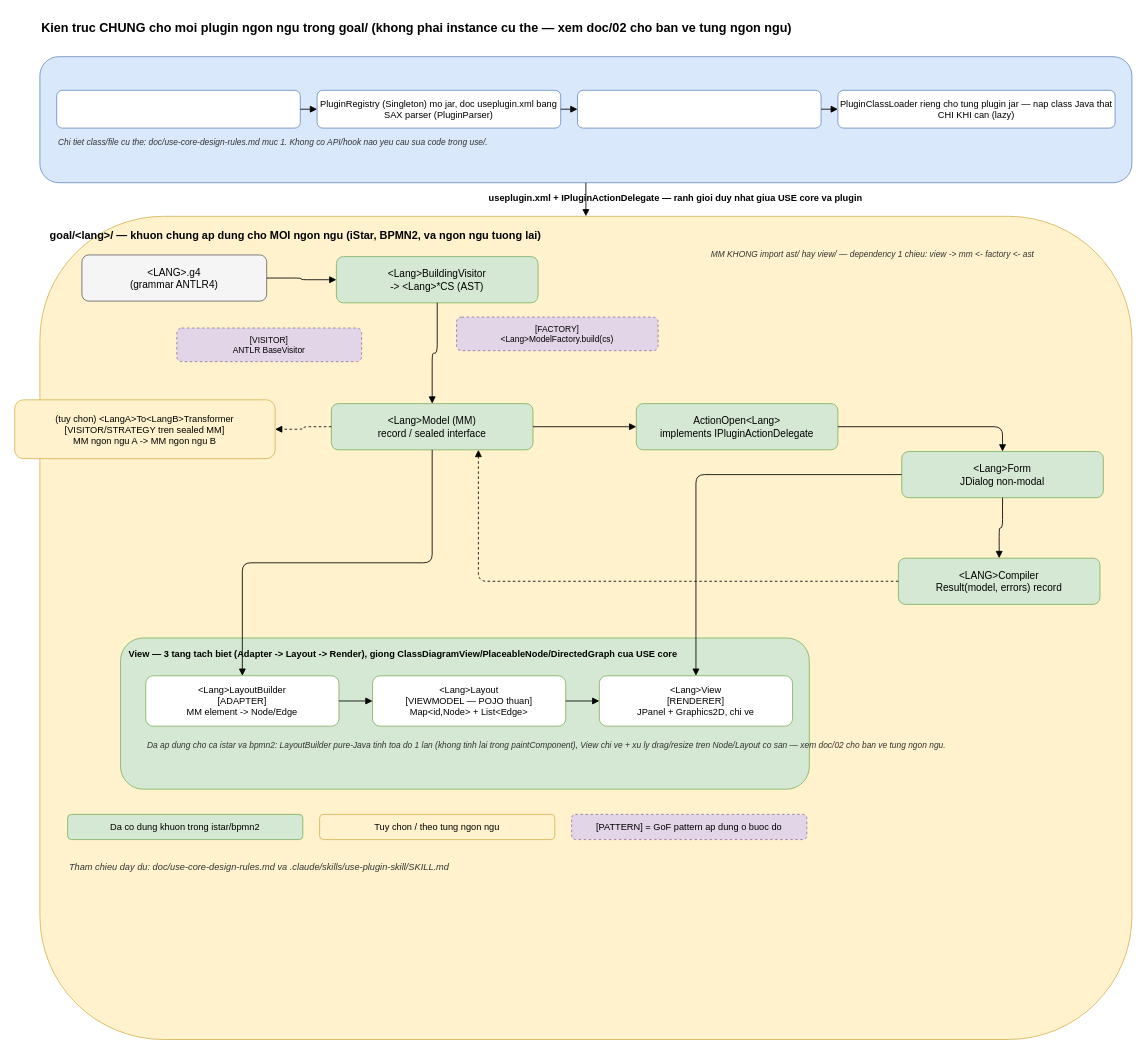
The diagram is 1147 pixels wide and 1054 high, and some of its shapes have lost their labels. The box of each missing label's shape, as (x1, y1, x2, y2) in pixels:
ActionExtensionPoint dang ky action theo PluginActionModel da parse: (577, 89, 821, 128)
Main.java nap MainPluginRuntime, quet thu muc plugin tim *.jar: (56, 89, 300, 128)
USE Platform — co che nap plugin (KHONG duoc sua file nao trong use/): (39, 56, 1132, 183)
